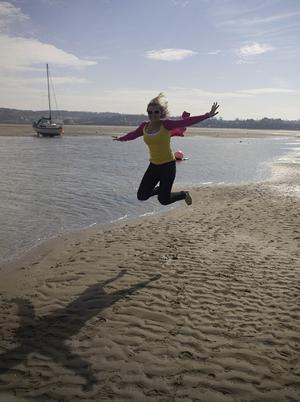person: (113, 99, 221, 206)
